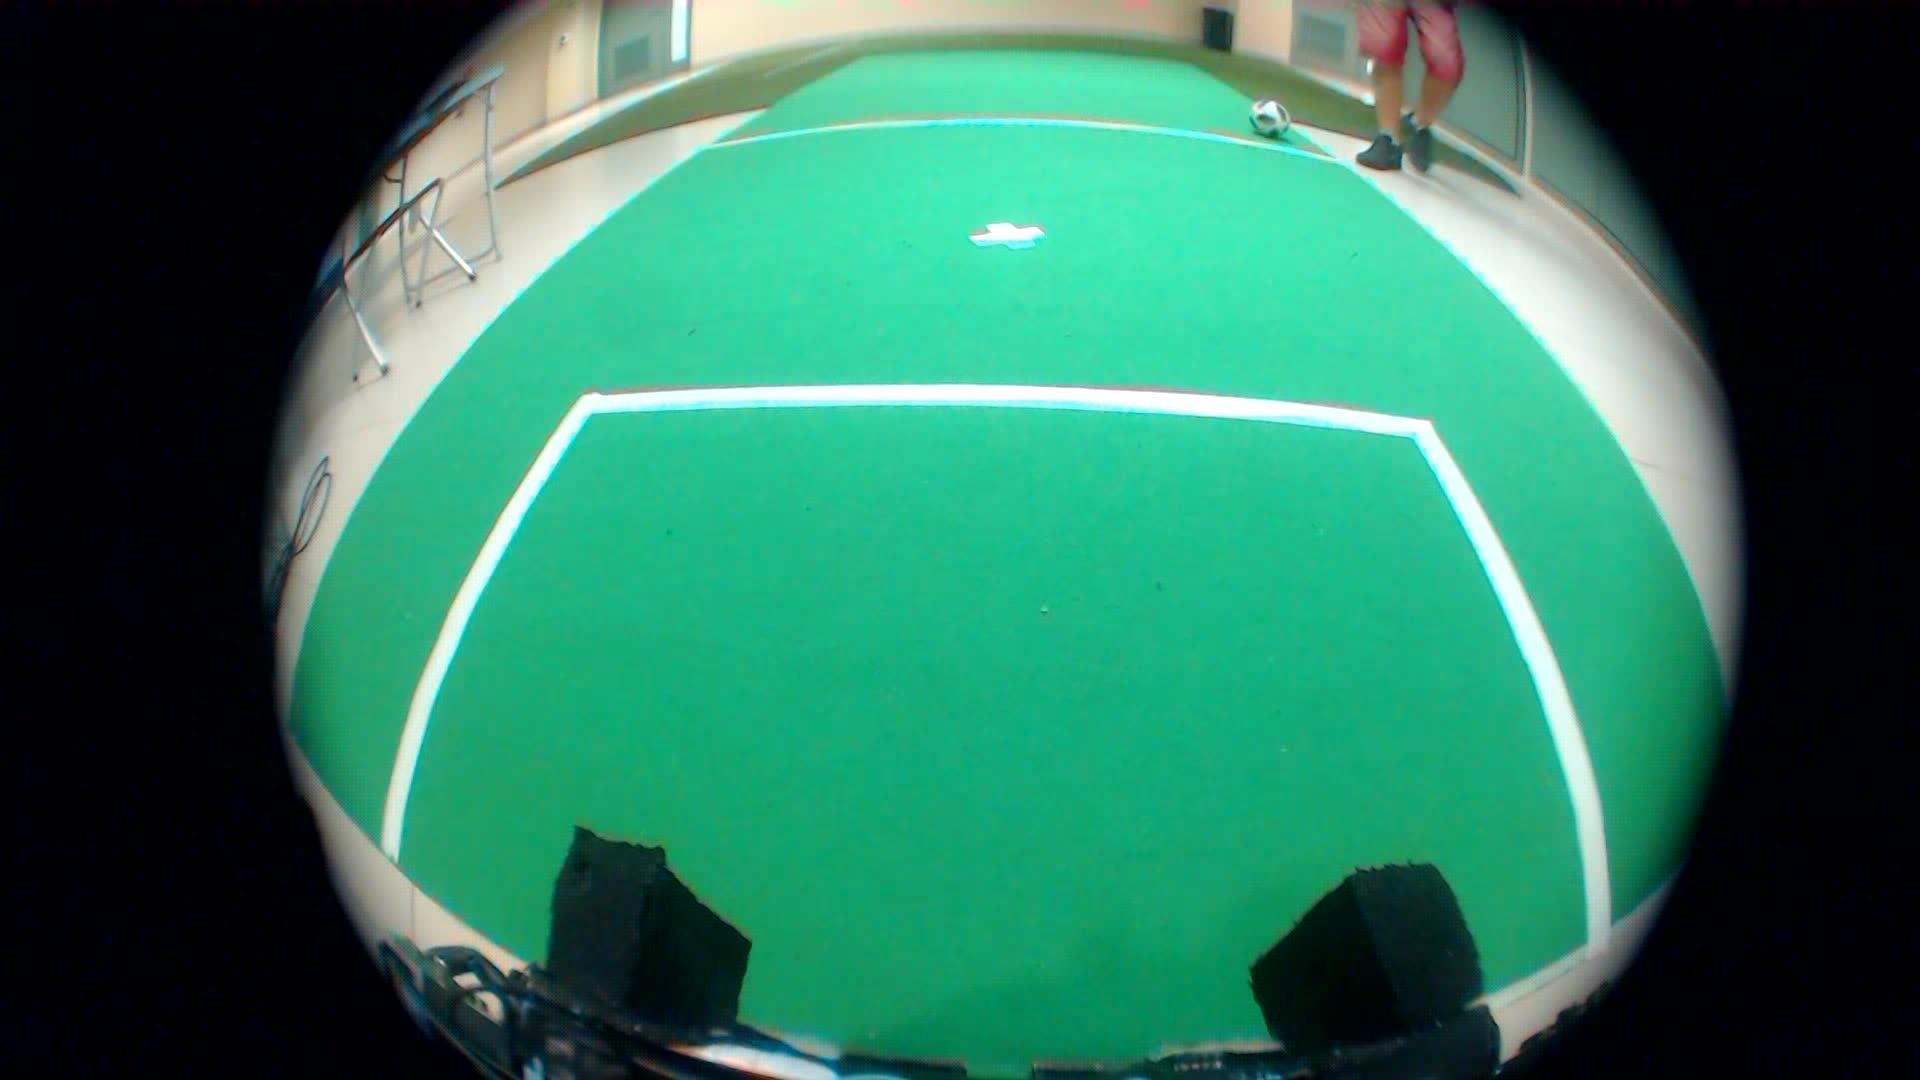ball: (1238, 87, 1284, 138)
